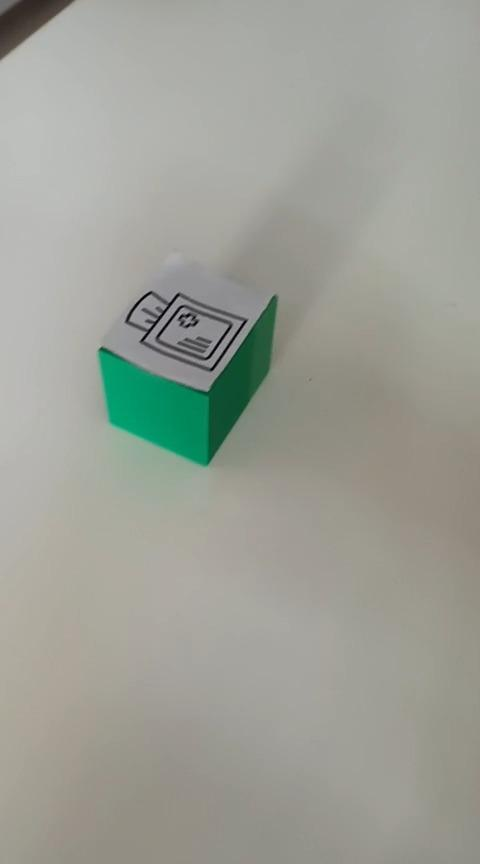Gauze: (96, 248, 278, 467)
